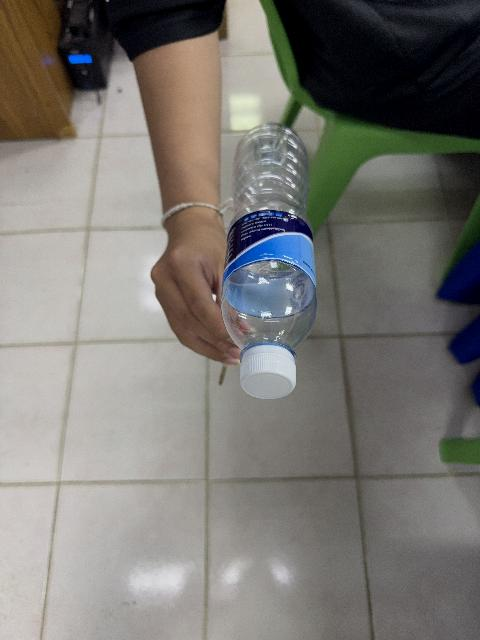bottle: (222, 124, 316, 398)
